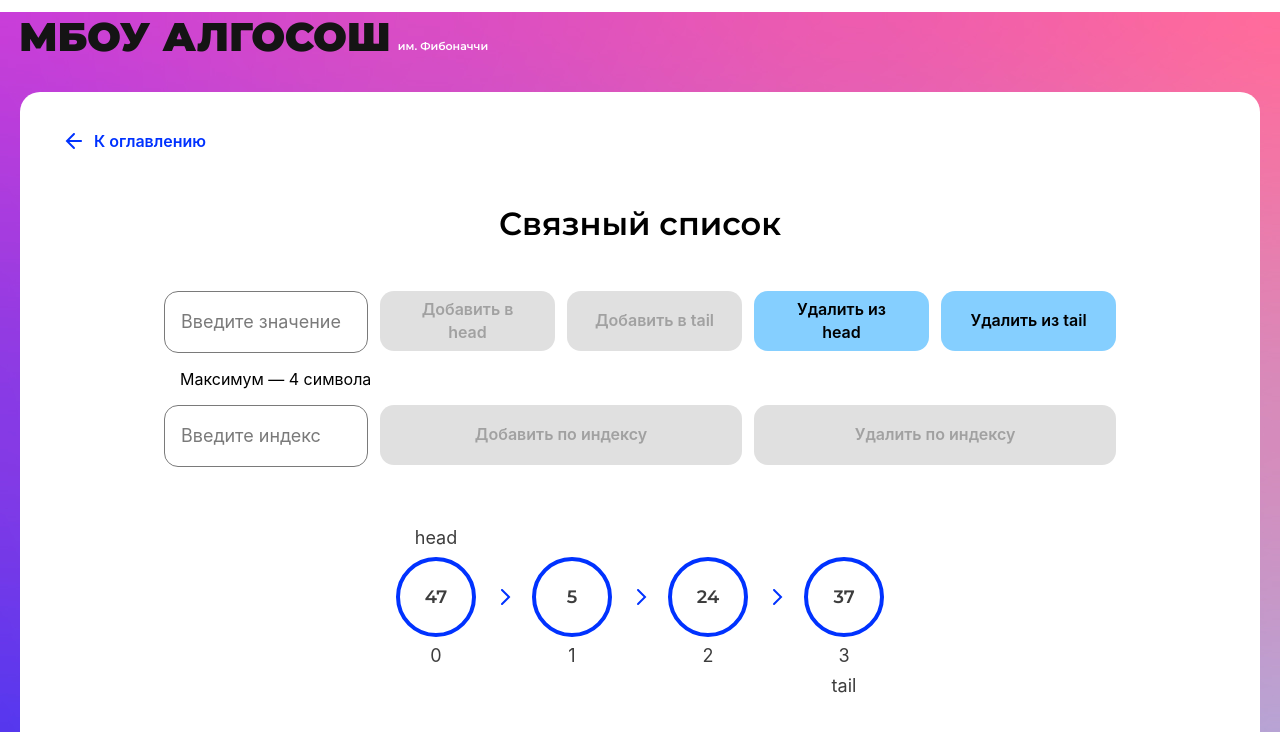
Scenario: liked-list functionality works correctly › adding element in head works properly
In the field with test id "input-for-value": (266, 322) [164, 291, 368, 353], type "🐝"
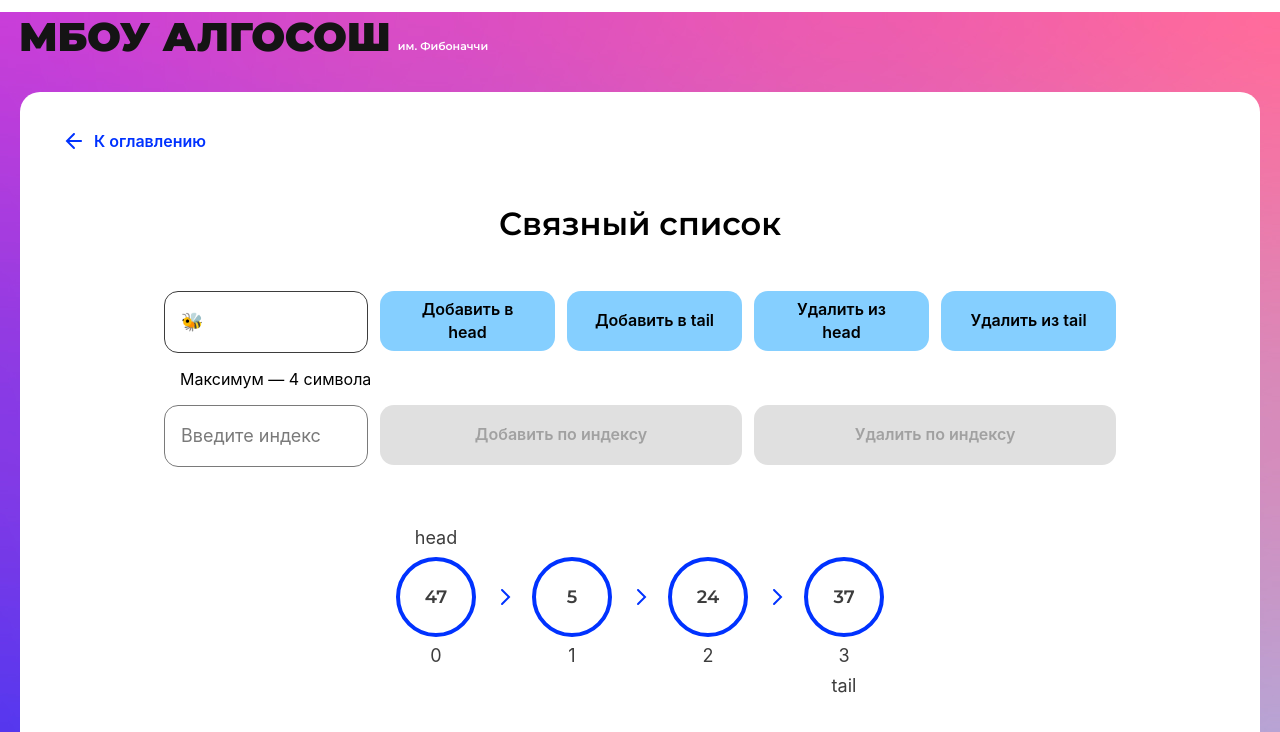
Expected: the element with test id "add-to-head-button" is enabled
Click the button with test id "add-to-head-button": (468, 321) [380, 291, 555, 351]
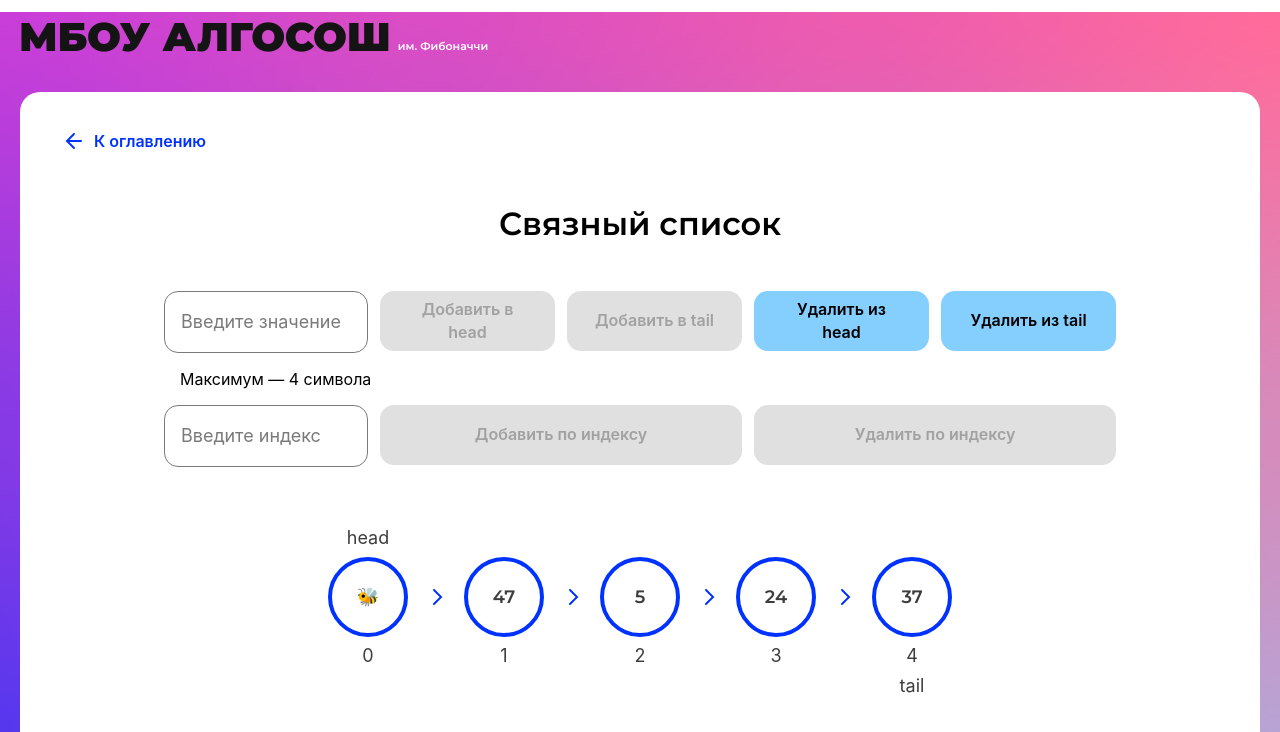
Expected: the text "head" is shown, [347, 527, 389, 549]
Expected: the field with test id "input-for-value" is empty, [164, 291, 368, 353]
Expected: the element with test id "circle" reads "🐝", [328, 557, 408, 637]
